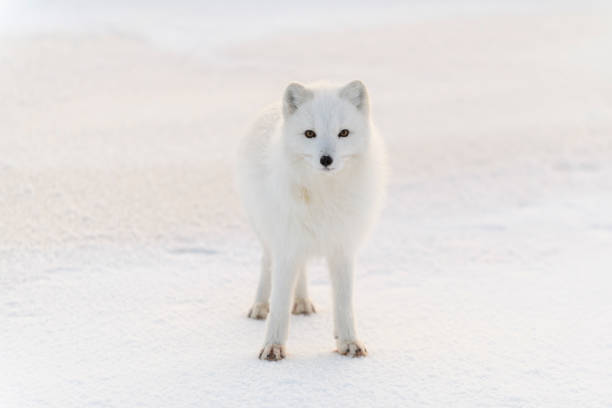arcticfox: (277, 78, 376, 206)
